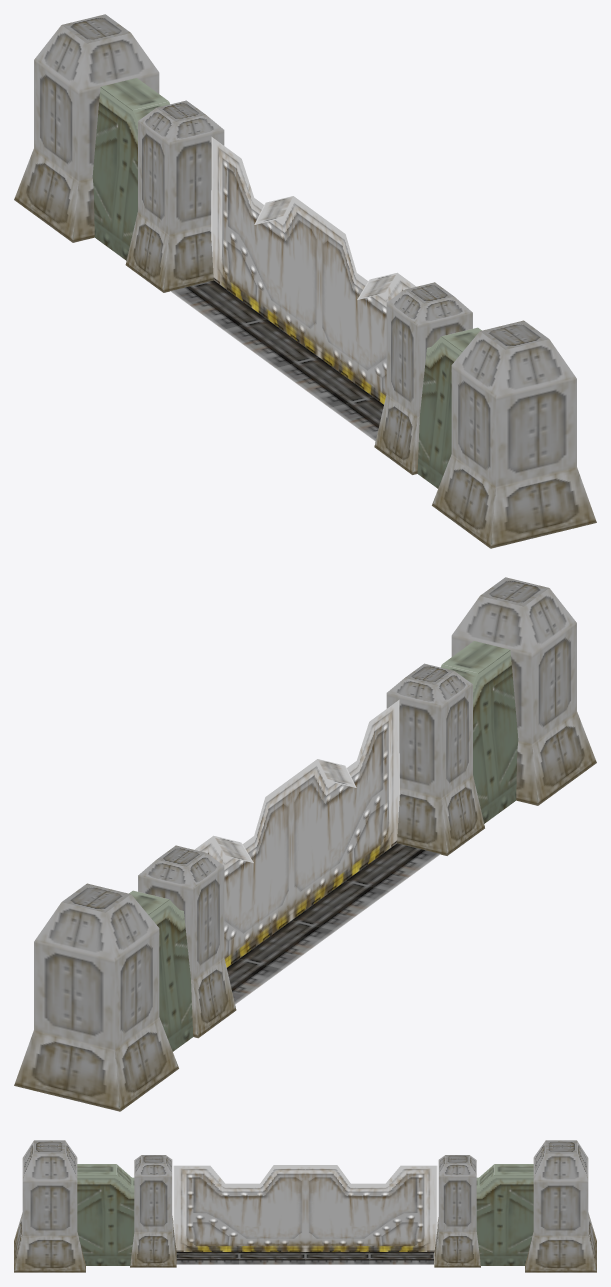
The model's file is l_mediumgate.glb.
3 renders of one model, top to bottom at view 1: azimuth 30°, elevation 25°; view 2: azimuth 150°, elevation 25°; view 3: azimuth 270°, elevation 25°, orthographic. The views are drawn at different scales.
Parts seen in each view (by area): view 1: L_MediumGate, L_MediumGateDoor, Gatefloor_PAB; view 2: L_MediumGate, L_MediumGateDoor, Gatefloor_PAB; view 3: L_MediumGate, L_MediumGateDoor, Gatefloor_PAB.
Part boxes in pixels (box(x1,y1,x2,y2)): L_MediumGate: box(14, 14, 596, 548); L_MediumGateDoor: box(211, 137, 416, 404); Gatefloor_PAB: box(170, 280, 383, 441); L_MediumGate: box(14, 577, 596, 1111); L_MediumGateDoor: box(194, 700, 399, 967); Gatefloor_PAB: box(227, 843, 440, 1004); L_MediumGate: box(14, 1140, 596, 1272); L_MediumGateDoor: box(173, 1165, 437, 1252); Gatefloor_PAB: box(176, 1252, 433, 1264).
Size of the model in its own units: 7.52 by 12.17 by 58.39.
Materials: 3 (3 with a texture image).
